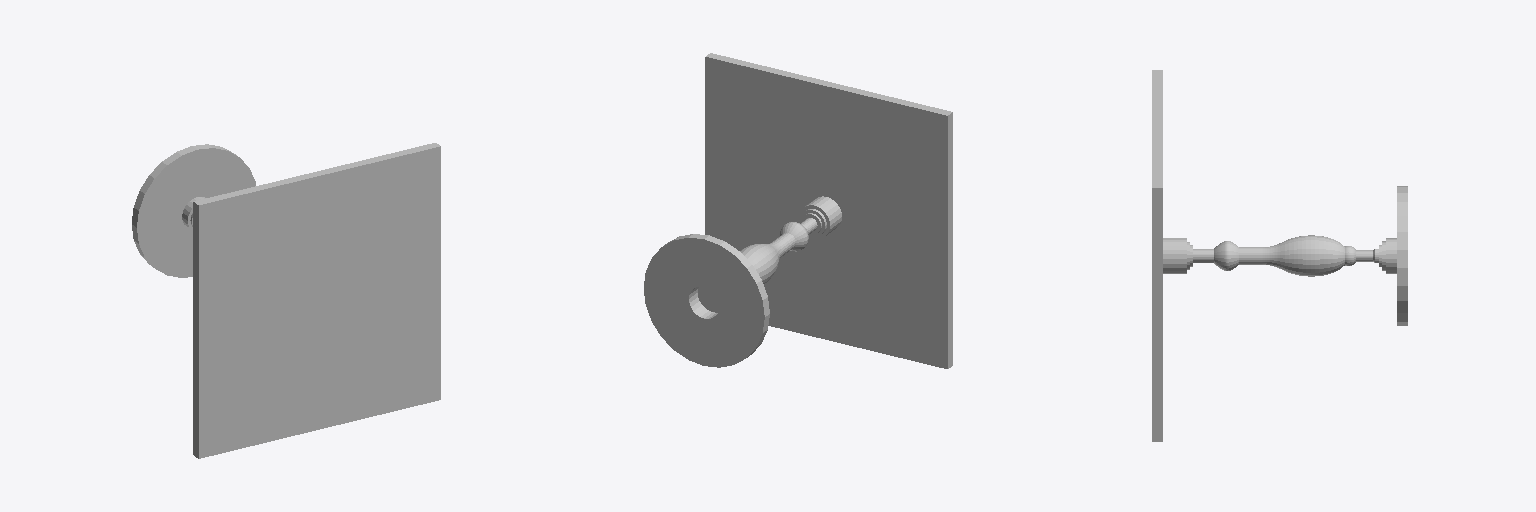
The model's file is table_4.obj.
The picture shows the model from 3 angles: view 1: azimuth 30°, elevation 25°; view 2: azimuth 150°, elevation 25°; view 3: azimuth 270°, elevation 25°; orthographic projection.
Parts seen in each view (by area): view 1: obj82, obj108, obj65, obj87; view 2: obj2381, obj119, obj65, obj87; view 3: obj111, obj87.
Boxes of the visible parts, x1=… form: obj82: x1=199, y1=146, x2=440, y2=458; obj108: x1=137, y1=148, x2=255, y2=277; obj65: x1=193, y1=202, x2=198, y2=458; obj87: x1=194, y1=143, x2=439, y2=204; obj2381: x1=705, y1=57, x2=947, y2=368; obj119: x1=644, y1=238, x2=764, y2=367; obj65: x1=948, y1=112, x2=952, y2=368; obj87: x1=706, y1=53, x2=951, y2=115; obj111: x1=1152, y1=188, x2=1162, y2=441; obj87: x1=1152, y1=70, x2=1162, y2=187.
Bounding box in the file's own units: 31.5 × 31.5 × 28.73.